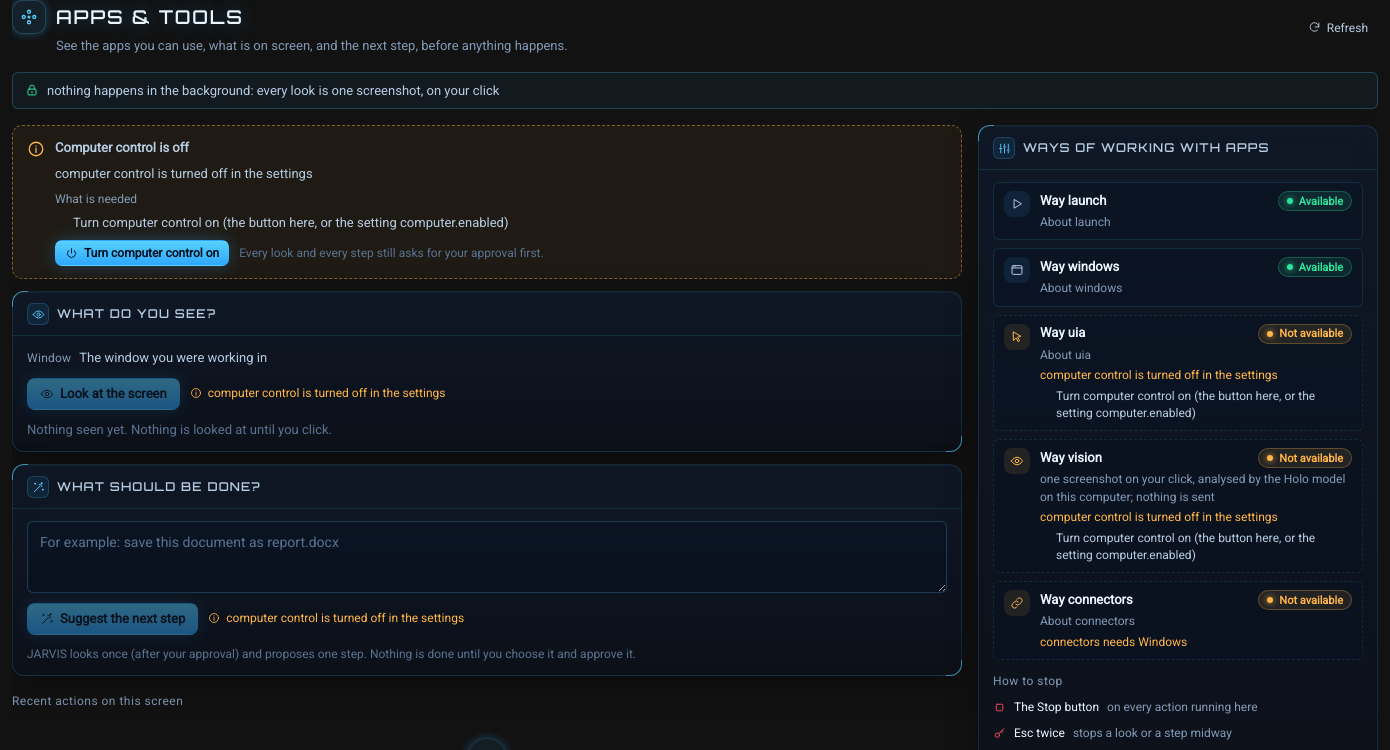
Scenario: the apps screen › with computer control off, one button turns it on and every look still asks first
Expected: the message with test id "apps-off" shows "Computer control is off", [55,138,189,157]
Expected: the message with test id "apps-off" shows "Every look and every step still asks for your approval first.", [239,244,544,262]
Click the button with test id "apps-turn-on": (142,253) [55,240,229,266]
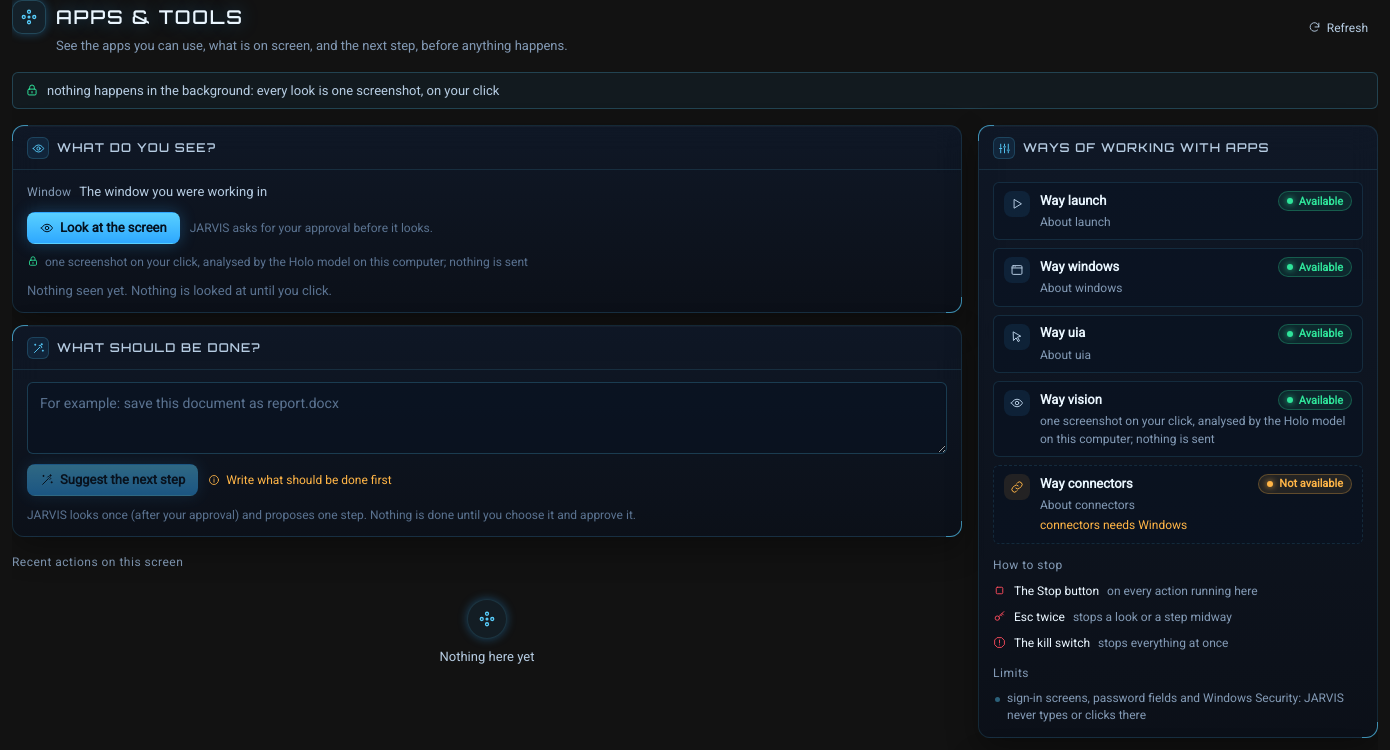
Expected: the message with test id "apps-off" is gone
Expected: the button with test id "apps-look-button" is enabled, [27,212,180,244]
